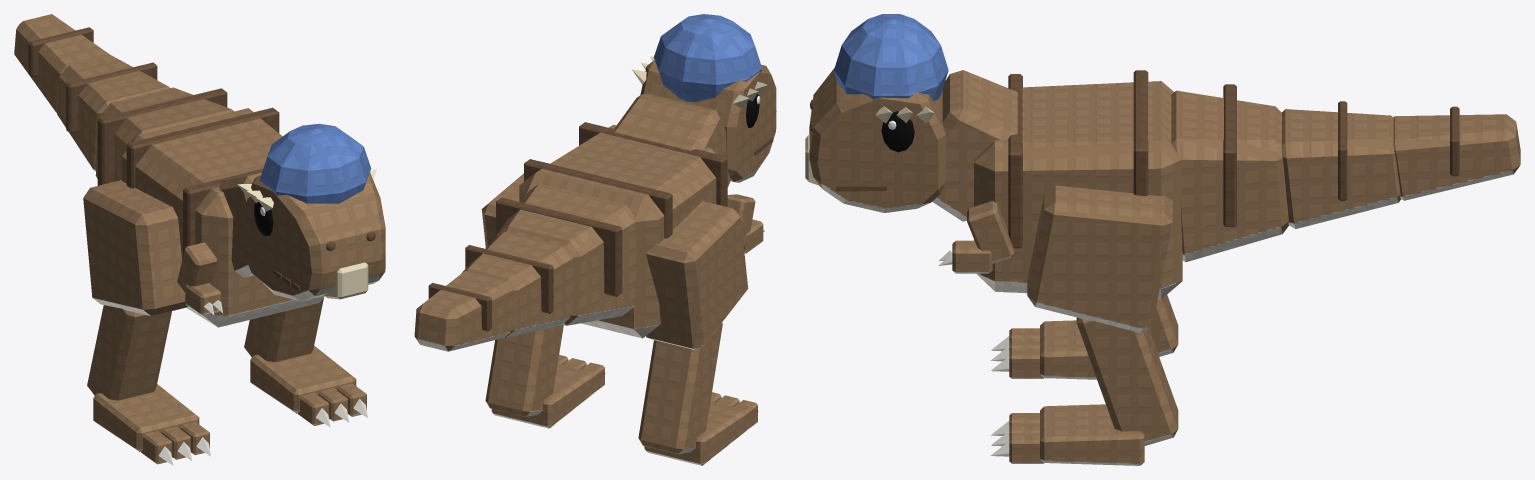
The model's file is 05_Pachycephalosaurus.glb.
3 renders of one model, left to right at view 1: azimuth 30°, elevation 25°; view 2: azimuth 150°, elevation 25°; view 3: azimuth 270°, elevation 25°, orthographic. The views are drawn at different scales.
Parts seen in each view (by area): view 1: 05_Pachycephalosaurus; view 2: 05_Pachycephalosaurus; view 3: 05_Pachycephalosaurus.
Part boxes in pixels (bbox=[...]): 05_Pachycephalosaurus: bbox=[14, 14, 385, 465]; 05_Pachycephalosaurus: bbox=[414, 14, 776, 465]; 05_Pachycephalosaurus: bbox=[805, 14, 1520, 465].
Size of the model in its own units: 2.63 by 4 by 6.68.
Materials: 1 (1 with a texture image).
